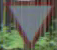Give way: (4, 2, 50, 49)
